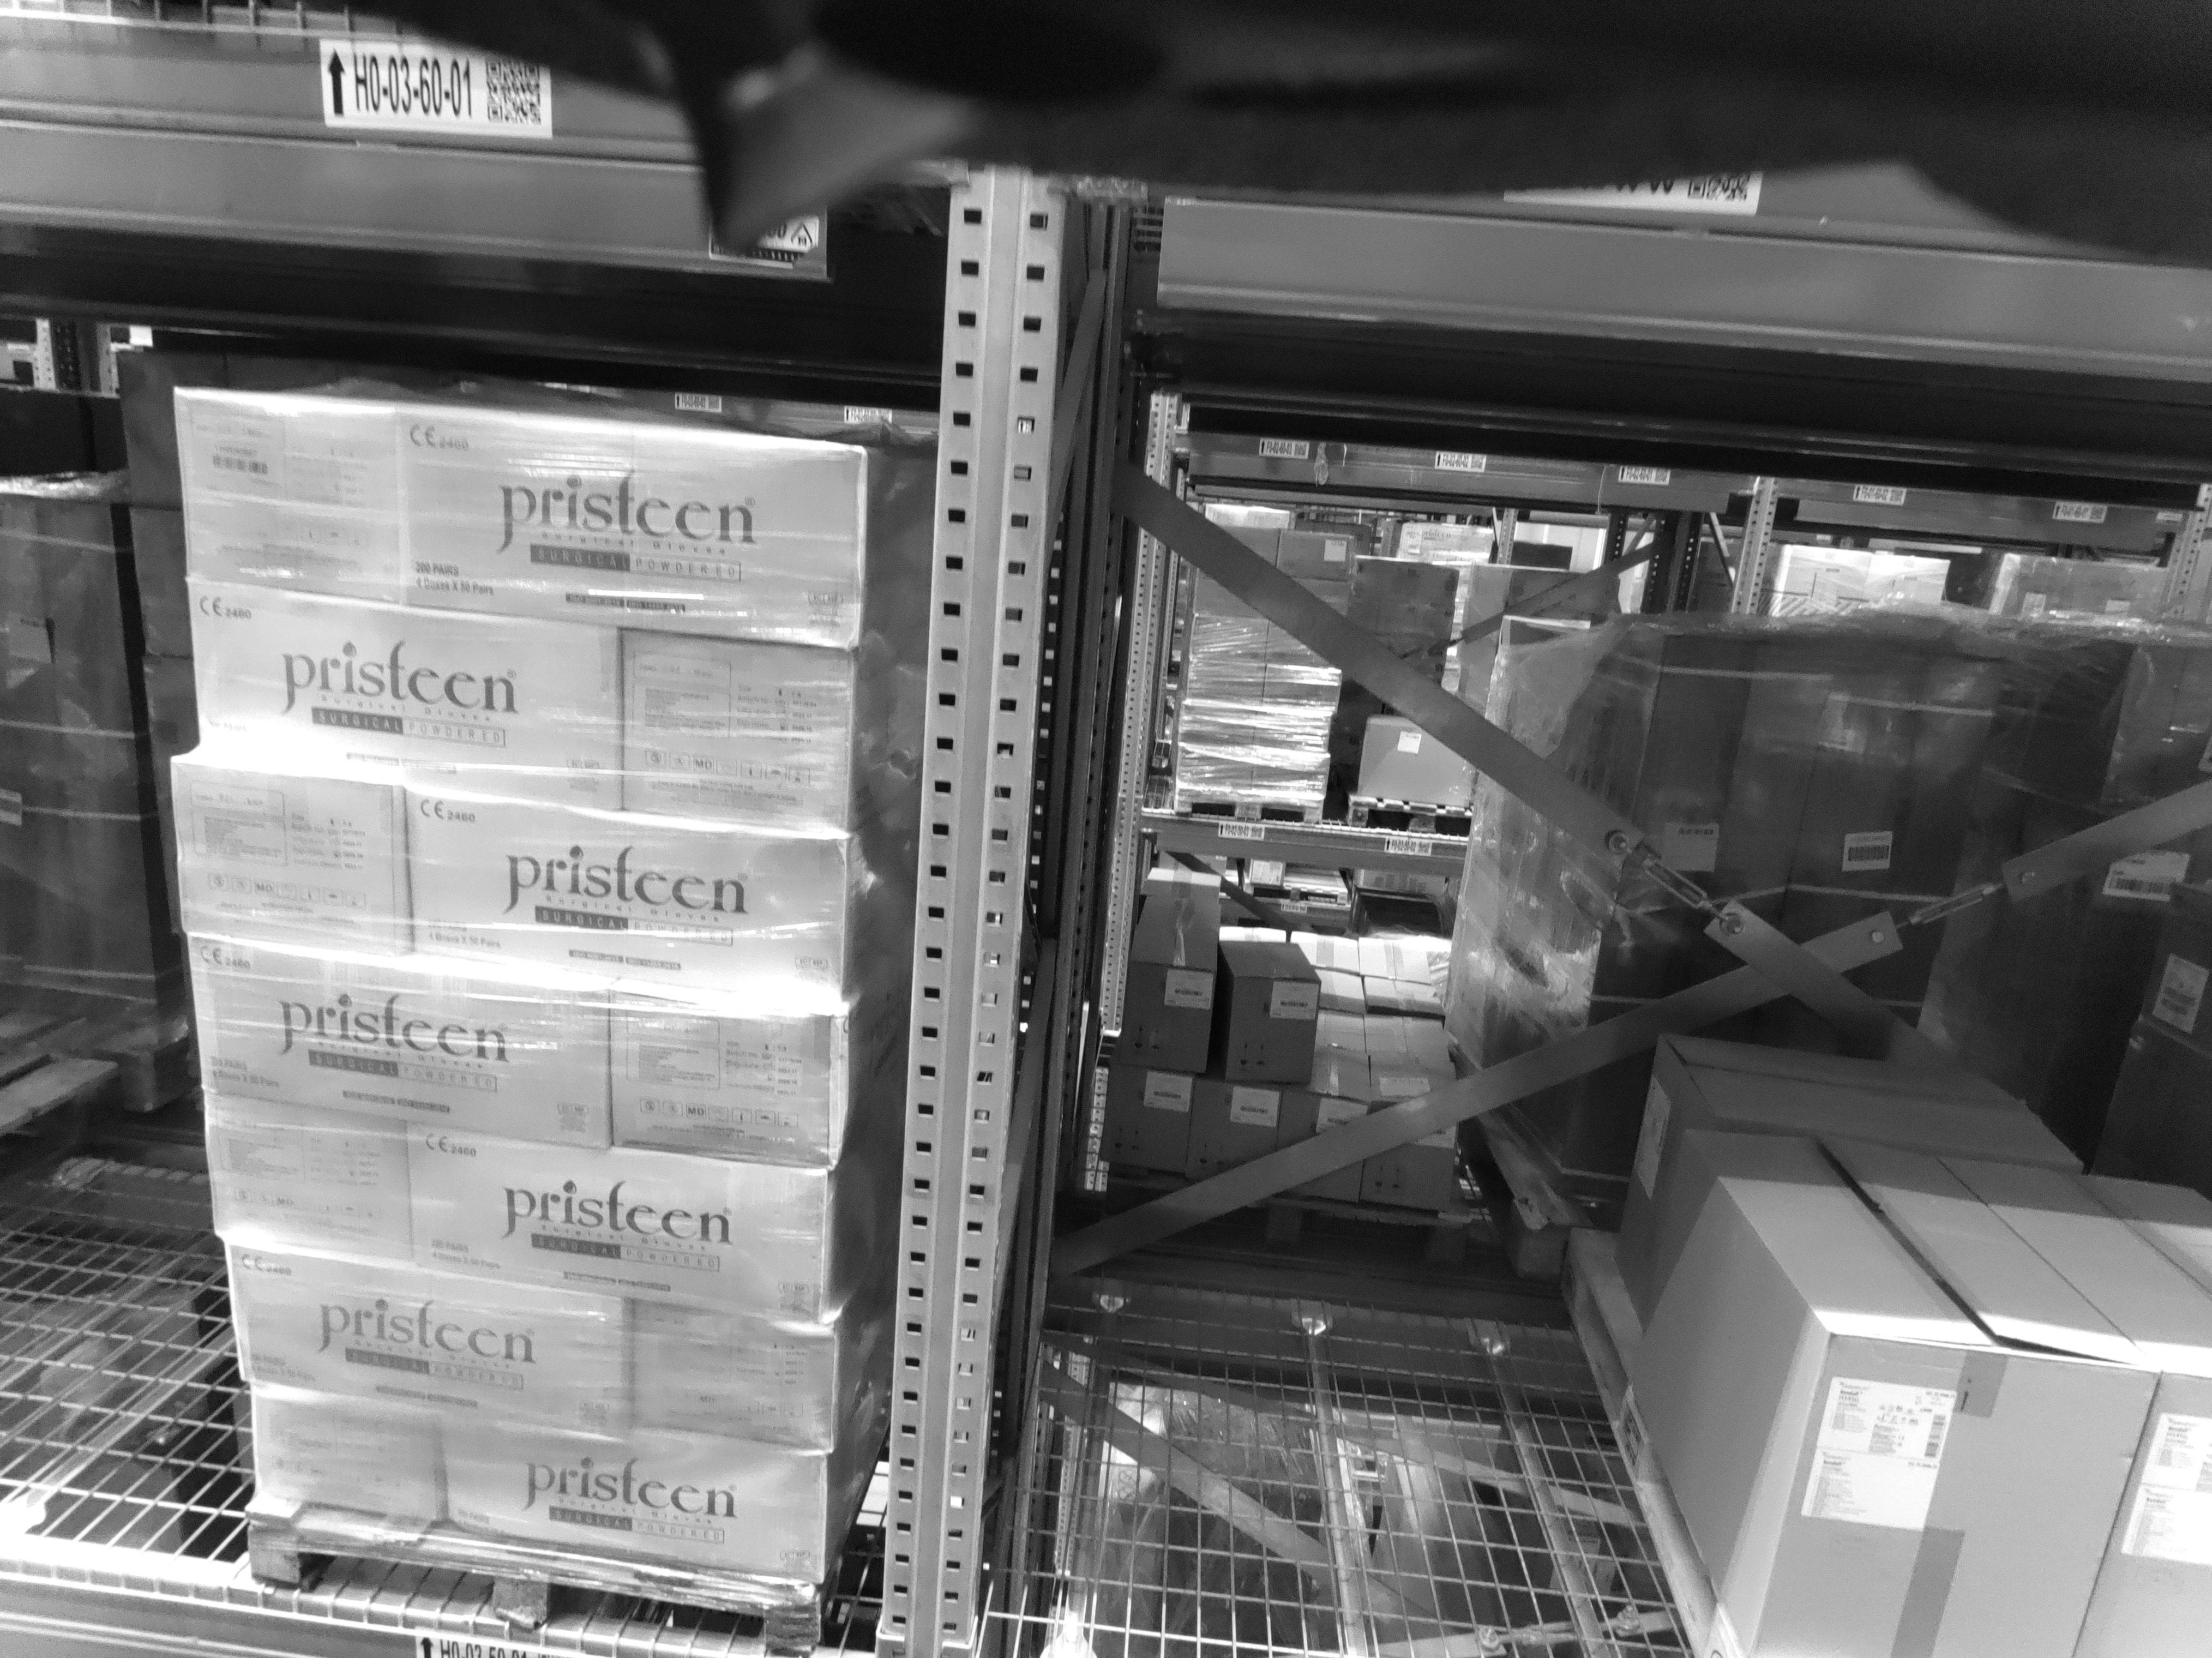empty-shelf: (1115, 381, 1604, 1658), (0, 310, 181, 1564)
